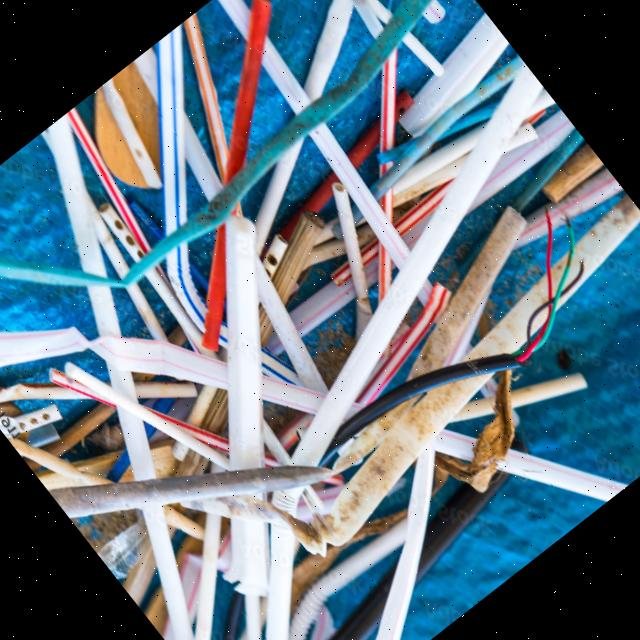plastic: (187, 431, 570, 640)
